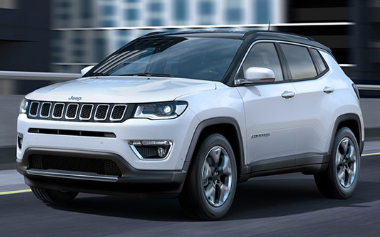car: (12, 26, 366, 223)
